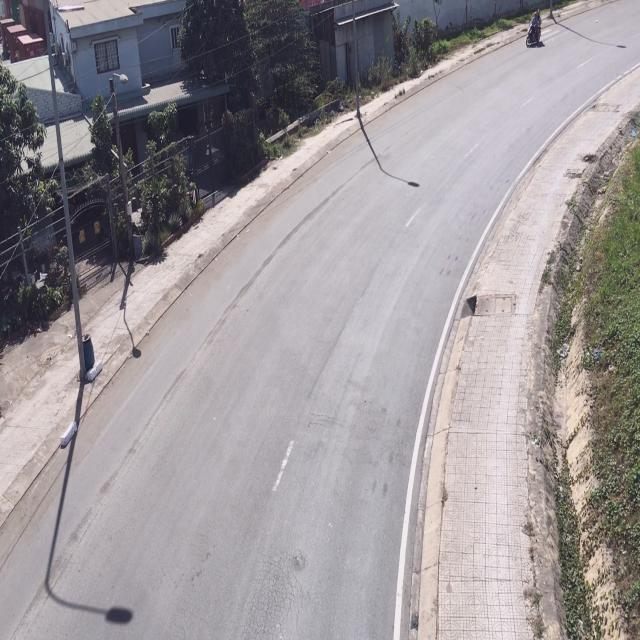motorbike: (526, 12, 545, 49)
